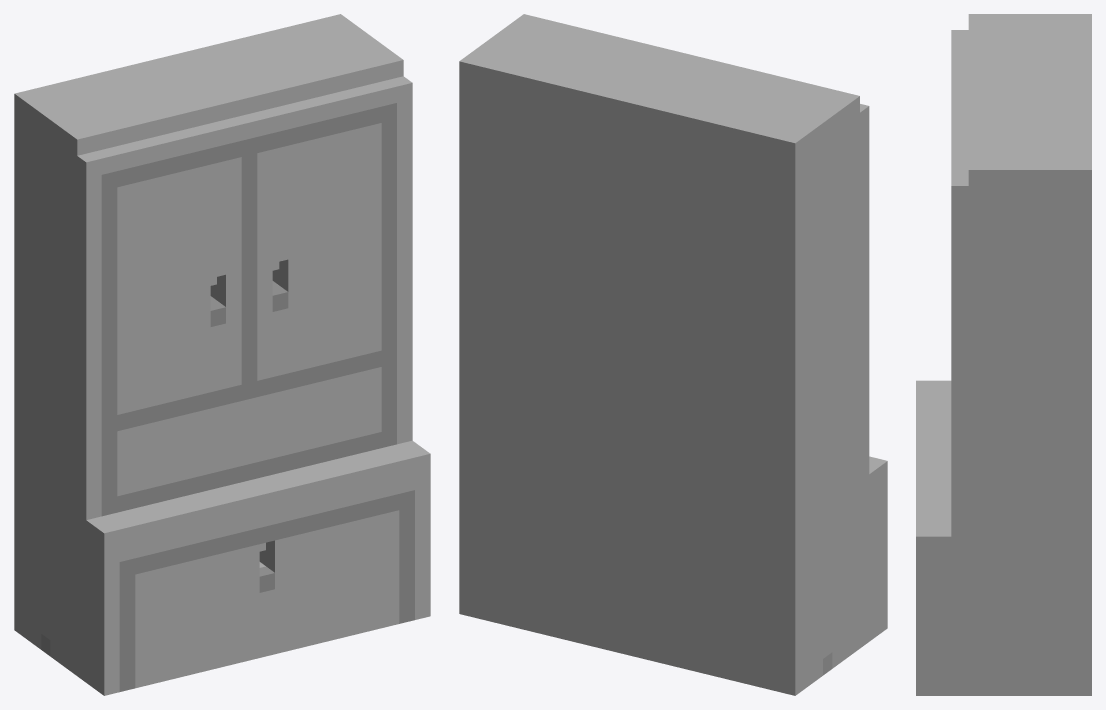
File: Barraks Lockers 1.obj
The picture shows the model from 3 angles, left to right: view 1: azimuth 30°, elevation 25°; view 2: azimuth 150°, elevation 25°; view 3: azimuth 270°, elevation 25°; orthographic projection. The views are drawn at different scales.
Size of the model in its own units: 21 by 33 by 10.
1 material, 1 textured.
